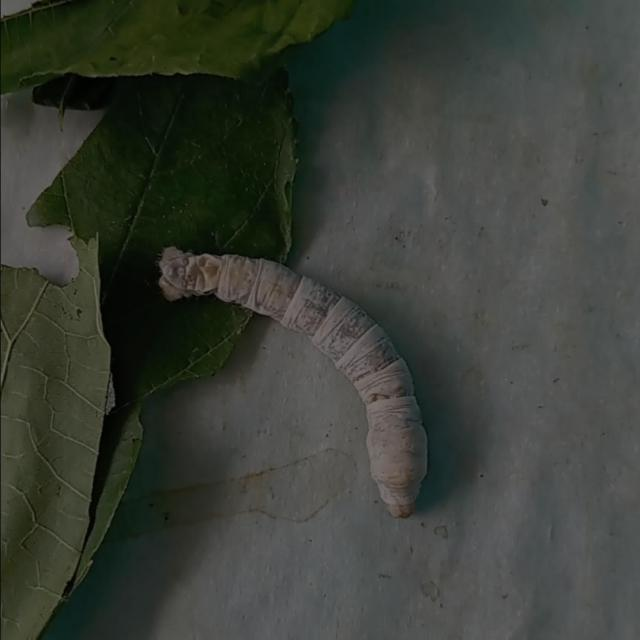Grasserie: (148, 189, 452, 534)
